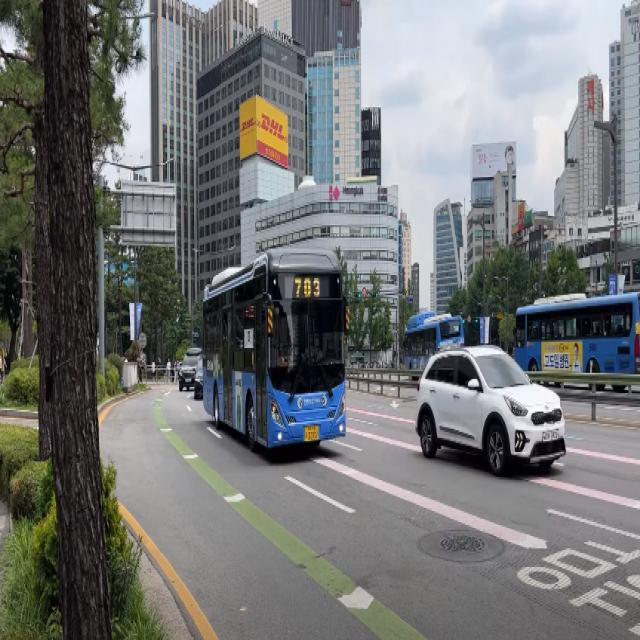bus-number: (293, 273, 322, 301)
